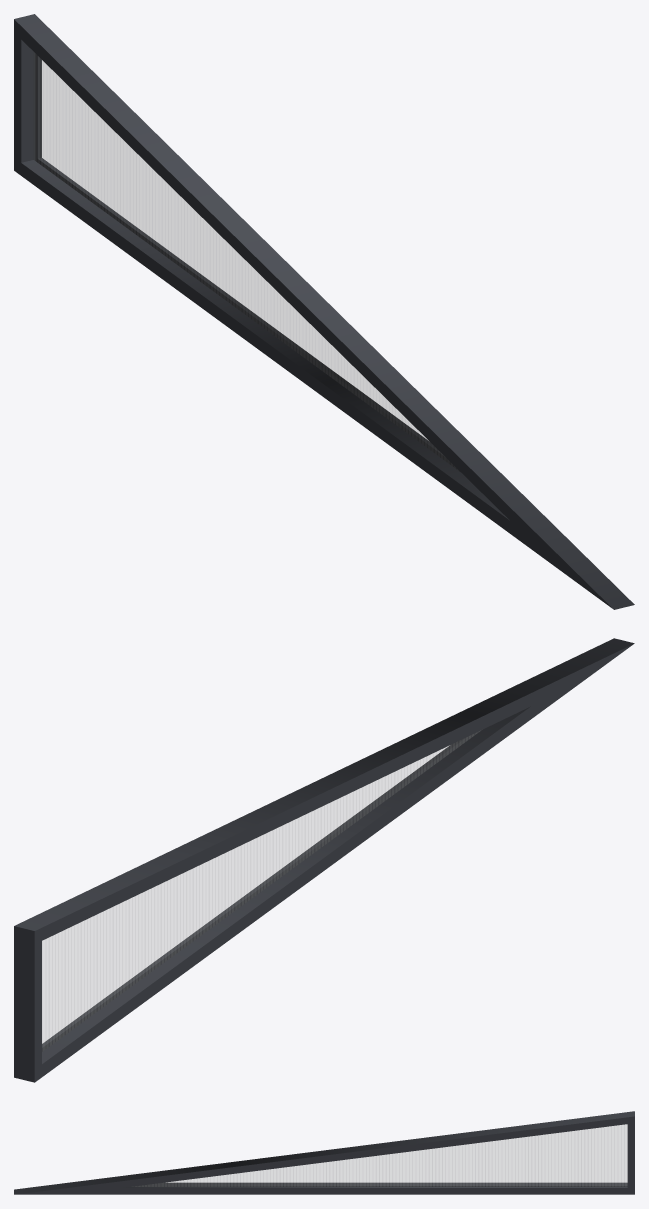
The model's file is nebbiolo_side_gable_right_poly_grey_400_250.glb.
The picture shows the model from 3 angles, top to bottom: view 1: azimuth 30°, elevation 25°; view 2: azimuth 150°, elevation 25°; view 3: azimuth 270°, elevation 25°; orthographic projection. The views are drawn at different scales.
Parts seen in each view (by area): view 1: side_gable_right_poly_grey_400_250; view 2: side_gable_right_poly_grey_400_250; view 3: side_gable_right_poly_grey_400_250.
Part boxes in pixels (bbox=[...]): side_gable_right_poly_grey_400_250: bbox=[14, 14, 634, 609]; side_gable_right_poly_grey_400_250: bbox=[14, 638, 634, 1082]; side_gable_right_poly_grey_400_250: bbox=[14, 1111, 634, 1194].
Bounding box in the file's own units: 0.05 × 0.3484 × 2.5.
Materials: 2 (2 with a texture image).
